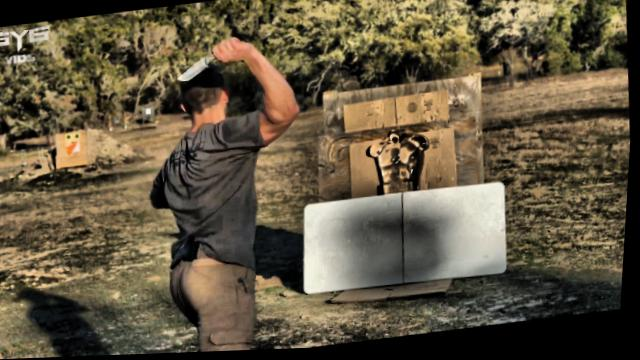knife: (169, 35, 245, 90)
